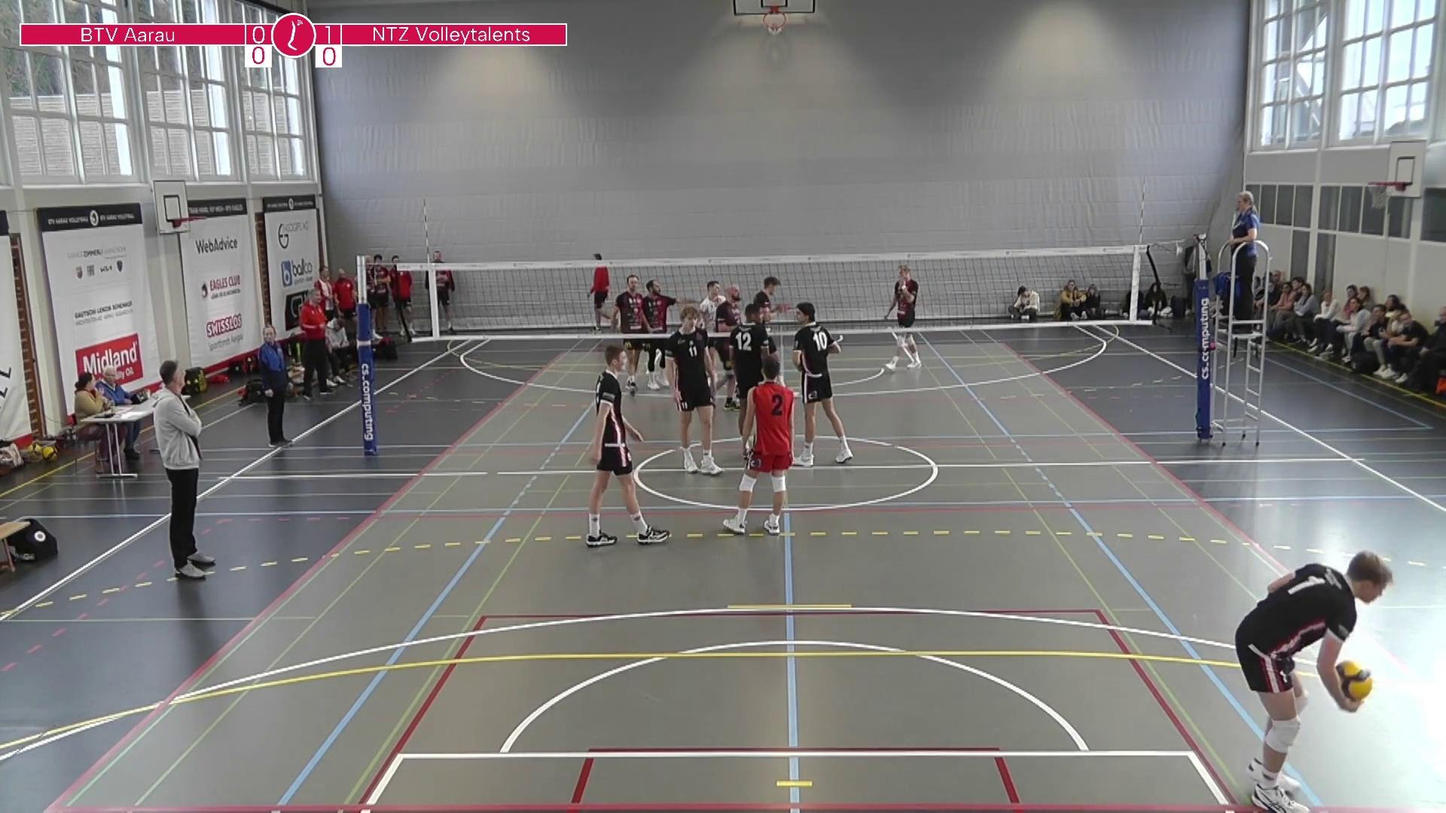Player: (1228, 547, 1393, 812), (585, 350, 669, 547), (725, 354, 795, 535), (792, 301, 853, 467), (665, 307, 721, 475), (746, 271, 802, 402), (731, 302, 779, 449), (697, 280, 740, 407), (609, 274, 651, 391), (635, 278, 674, 392), (886, 263, 920, 371)
ball: (1334, 658, 1374, 706)
